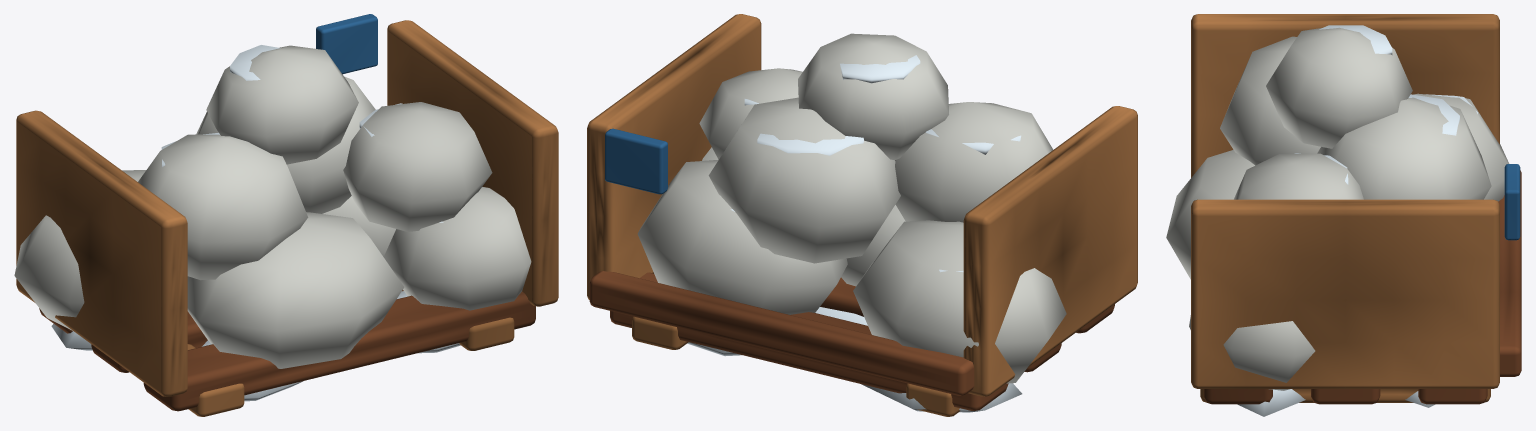
The model's file is stone_stack.glb.
3 renders of one model, left to right at view 1: azimuth 30°, elevation 25°; view 2: azimuth 150°, elevation 25°; view 3: azimuth 270°, elevation 25°, orthographic. The views are drawn at different scales.
Parts seen in each view (by area): view 1: stone_stack; view 2: stone_stack; view 3: stone_stack.
Part boxes in pixels (x1,y1,x2,y2): stone_stack: (14, 14, 558, 416); stone_stack: (587, 14, 1137, 416); stone_stack: (1166, 14, 1521, 416).
Bounding box in the file's own units: 1.69 × 1.07 × 1.15.
